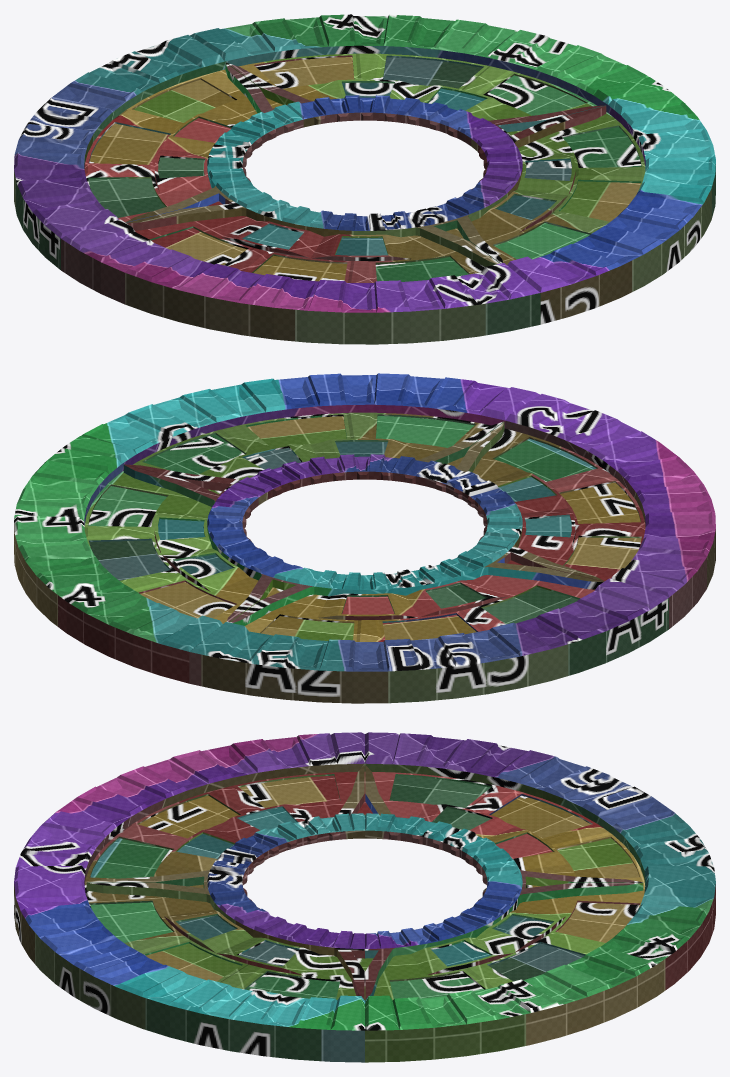
File: MayanCube.glb
3 views of the same model, one above another, from view 1: azimuth 30°, elevation 25°; view 2: azimuth 150°, elevation 25°; view 3: azimuth 270°, elevation 25° (orthographic).
Visible parts, largest first — view 1: Cyl_Low; view 2: Cyl_Low; view 3: Cyl_Low.
Part boxes in pixels (<box>): Cyl_Low: <box>14,14,715,344</box>; Cyl_Low: <box>14,373,715,703</box>; Cyl_Low: <box>14,732,715,1062</box>.
Size of the model in its own units: 2 by 0.12 by 2.
Materials: 1 (1 with a texture image).
